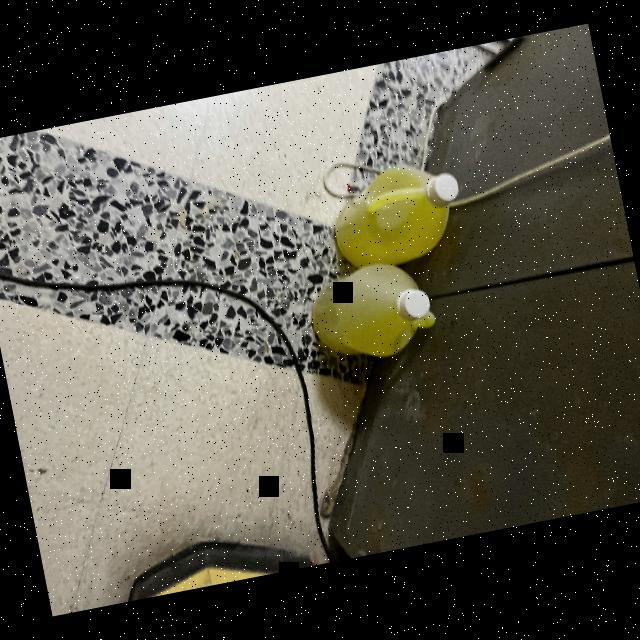chemical_plastic_gallon: (294, 245, 463, 402), (304, 140, 478, 287)
